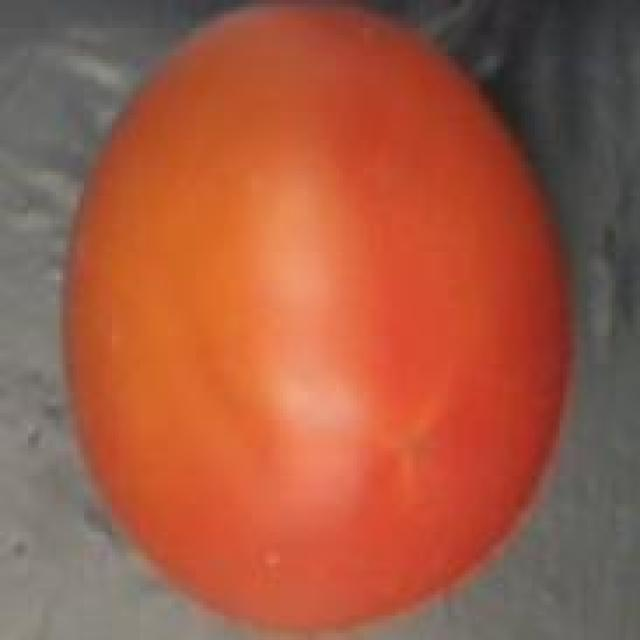ripe tomato: (56, 0, 581, 637)
